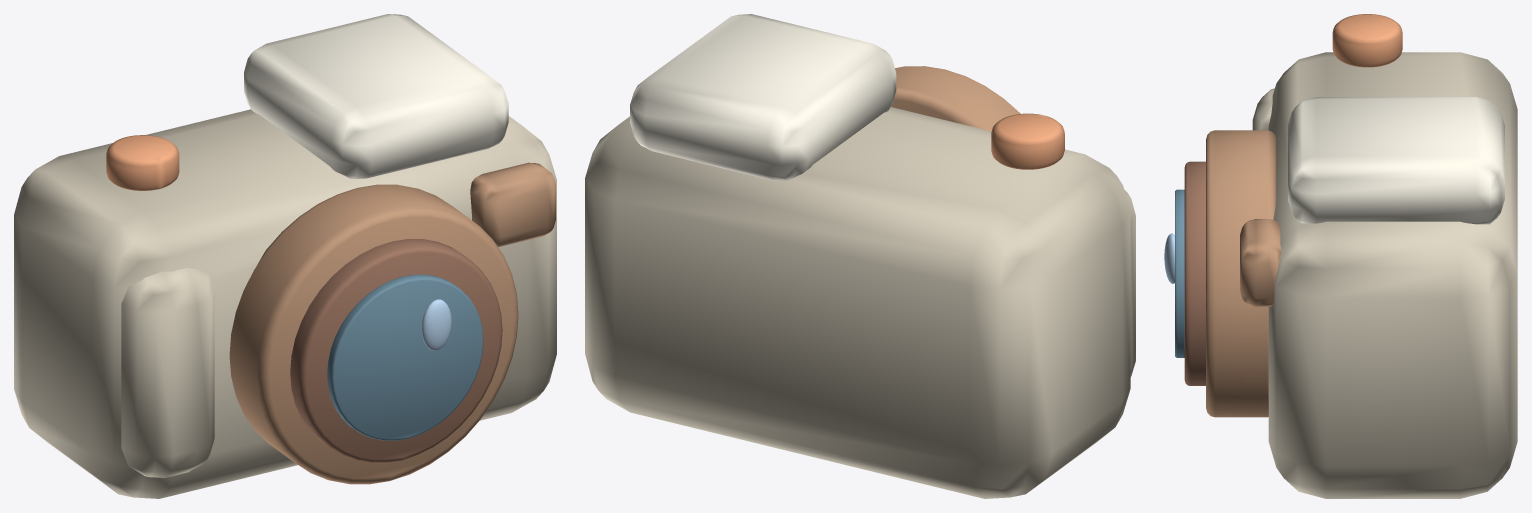
The model's file is tourism.glb.
3 views of the same model, side by side, from view 1: azimuth 30°, elevation 25°; view 2: azimuth 150°, elevation 25°; view 3: azimuth 270°, elevation 25° (orthographic). The views are drawn at different scales.
Visible parts, largest first — view 1: Camera body, Camera top housing, Lens outer rim, Lens glass, Camera grip, Lens inner rim, Viewfinder, Shutter button, Lens glint; view 2: Camera body, Camera top housing, Lens outer rim, Shutter button, Camera grip; view 3: Camera body, Camera top housing, Lens outer rim, Lens inner rim, Shutter button, Viewfinder, Lens glass, Camera grip, Lens glint.
Part boxes in pixels (x1,y1,x2,y2): Camera body: [14, 109, 556, 498]; Camera top housing: [244, 14, 508, 179]; Lens outer rim: [229, 184, 518, 484]; Lens glass: [327, 274, 483, 440]; Camera grip: [121, 268, 214, 477]; Lens inner rim: [290, 239, 502, 463]; Viewfinder: [470, 162, 555, 246]; Shutter button: [106, 135, 179, 190]; Lens glint: [421, 299, 451, 350]; Camera body: [585, 107, 1130, 498]; Camera top housing: [630, 14, 896, 180]; Lens outer rim: [891, 66, 1020, 131]; Shutter button: [991, 113, 1064, 169]; Camera grip: [1124, 189, 1135, 376]; Camera body: [1268, 52, 1517, 498]; Camera top housing: [1288, 97, 1504, 224]; Lens outer rim: [1206, 130, 1276, 417]; Lens inner rim: [1184, 161, 1205, 385]; Shutter button: [1332, 14, 1402, 67]; Viewfinder: [1240, 219, 1281, 306]; Lens glass: [1175, 189, 1184, 357]; Camera grip: [1252, 88, 1274, 130]; Lens glint: [1164, 233, 1174, 283].
Size of the model in its own units: 0.79 by 0.565 by 0.5535.
